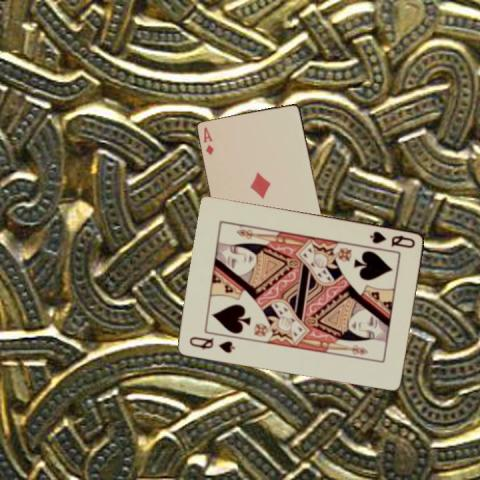Ad: (201, 124, 215, 157)
Qs: (368, 228, 418, 249), (187, 333, 236, 354)
